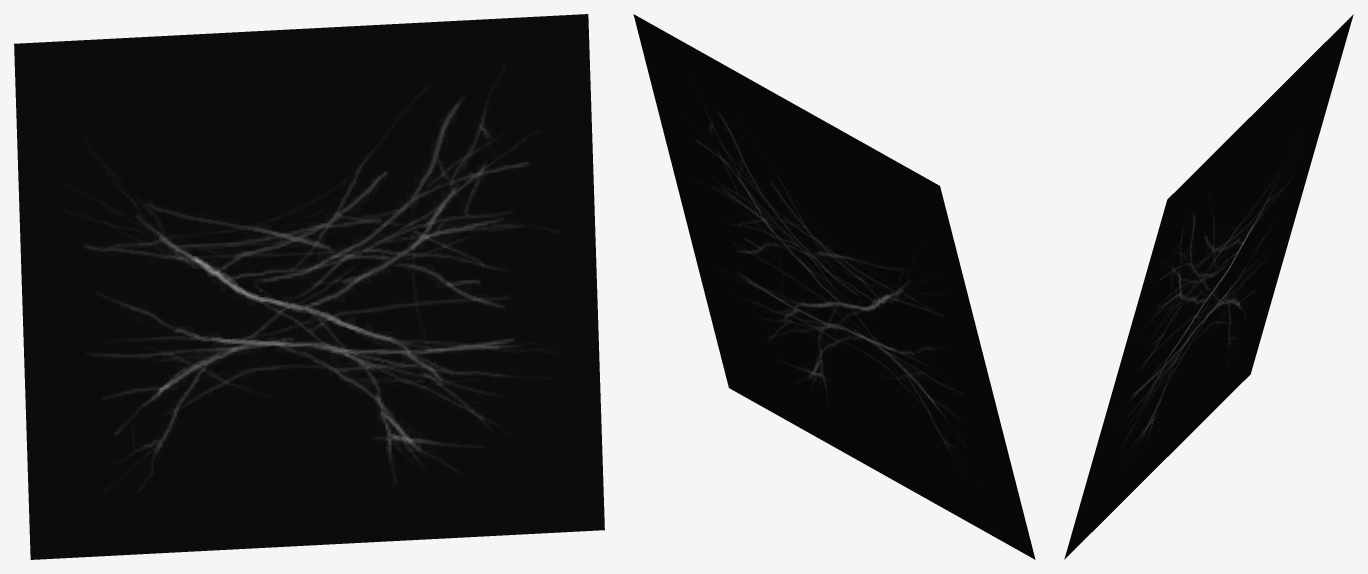
The model's file is MIRKWOOD_WEB_DECOR09.fbx.
3 renders of one model, left to right at view 1: azimuth 30°, elevation 25°; view 2: azimuth 150°, elevation 25°; view 3: azimuth 270°, elevation 25°, orthographic. The views are drawn at different scales.
Visible parts, largest first — view 1: MIRKWOOD_WEB_DECOR09; view 2: MIRKWOOD_WEB_DECOR09; view 3: MIRKWOOD_WEB_DECOR09.
Boxes of the visible parts, <box> form: MIRKWOOD_WEB_DECOR09: <box>14,14,604,559</box>; MIRKWOOD_WEB_DECOR09: <box>633,14,1035,559</box>; MIRKWOOD_WEB_DECOR09: <box>1064,14,1353,559</box>.
Size of the model in its own units: 82486 by 71373 by 49445.
Materials: 1 (1 with a texture image).
